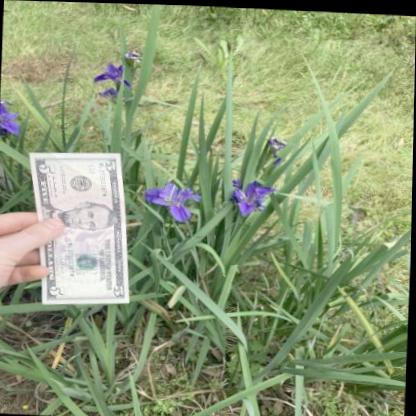five-front: (30, 152, 130, 304)
